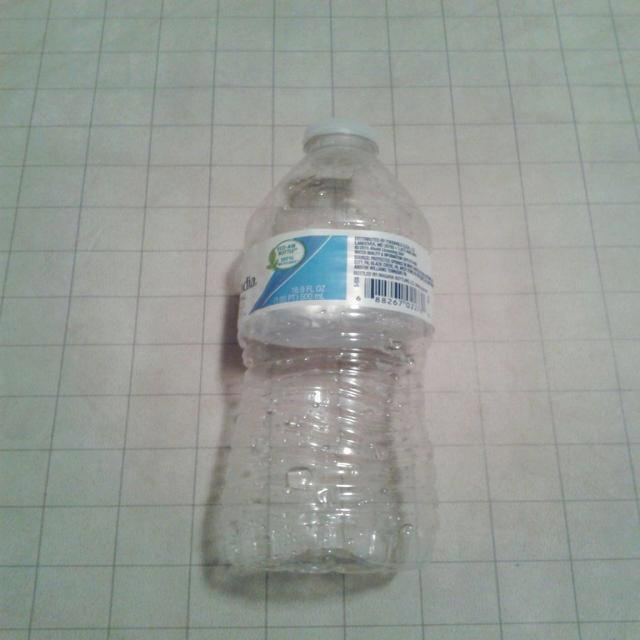bottle: (221, 121, 438, 574)
